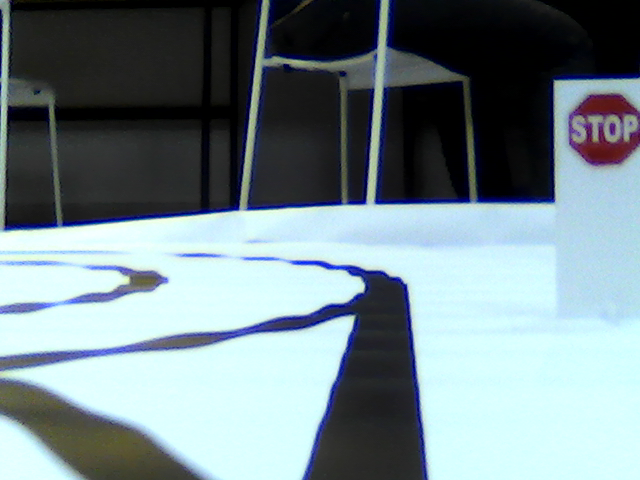Stop: (566, 92, 637, 168)
